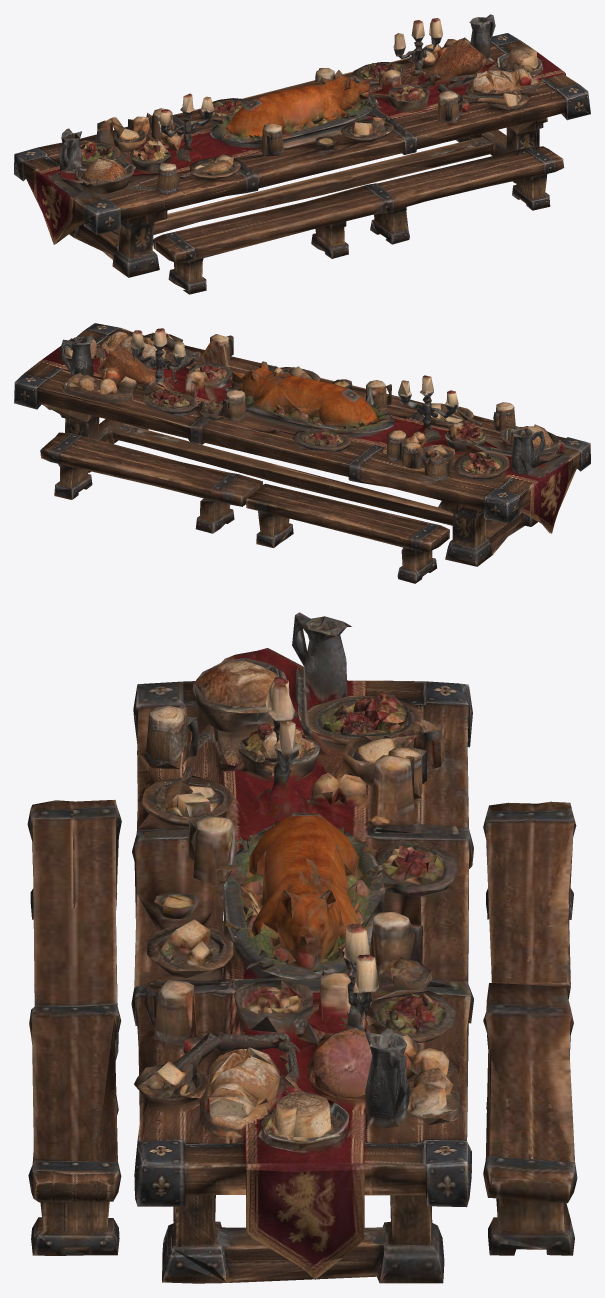
File: feast-table.glb
3 renders of one model, top to bottom at view 1: azimuth 30°, elevation 25°; view 2: azimuth 150°, elevation 25°; view 3: azimuth 270°, elevation 25°, orthographic. The views are drawn at different scales.
Size of the model in its own units: 2 by 0.5306 by 0.9484.
Materials: 1 (1 with a texture image).
